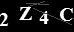2: (1, 12, 9, 27)
4: (37, 11, 50, 25)
C: (59, 6, 74, 22)
Z: (18, 5, 33, 21)
